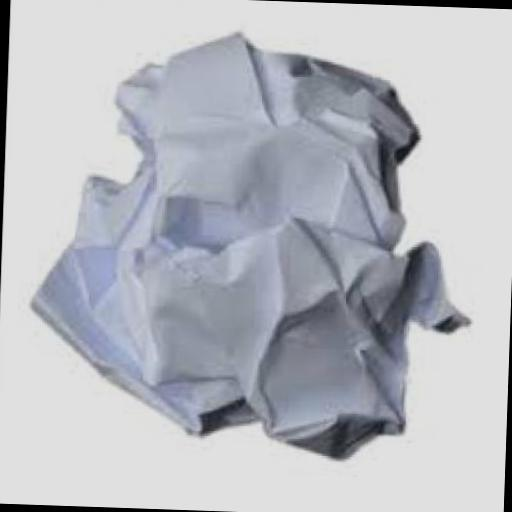paper: (20, 16, 474, 462)
